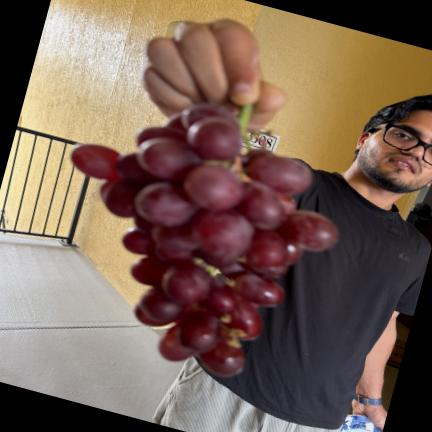grape_cluster: (71, 103, 338, 377)
